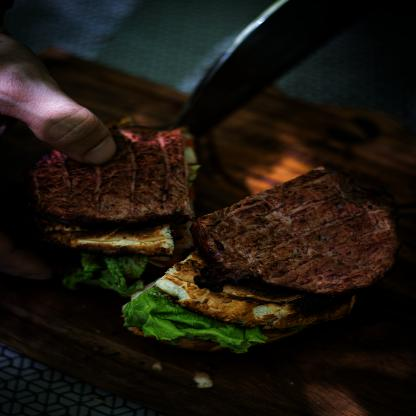Carne: (196, 161, 405, 292), (37, 128, 186, 213)
